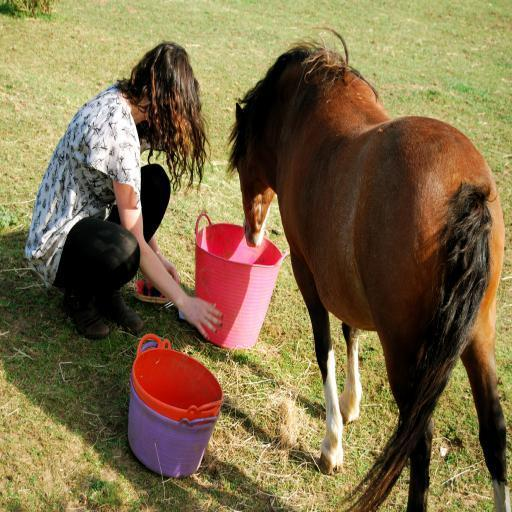horse: (224, 24, 512, 512)
